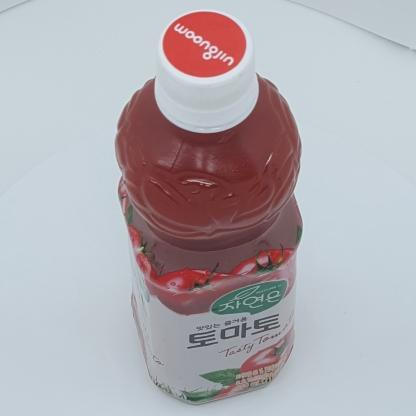--------500ML: (113, 8, 304, 406)
